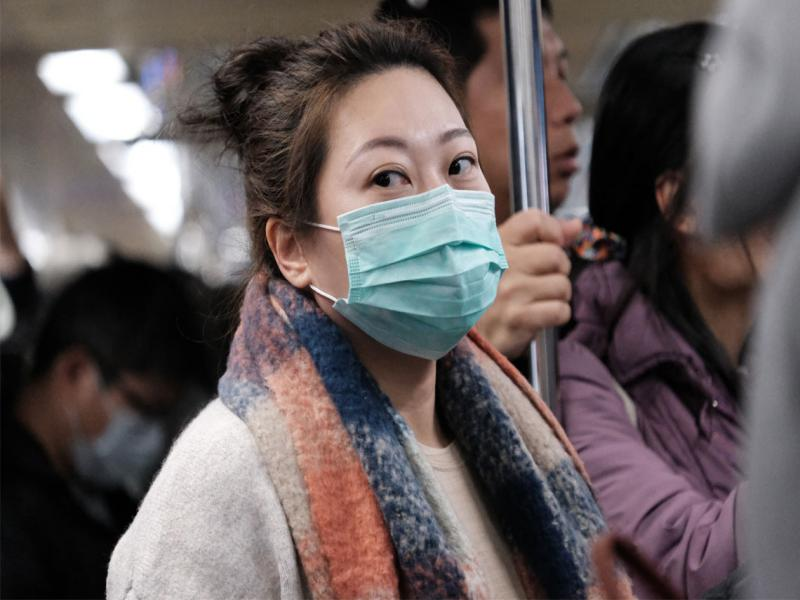bad: (467, 38, 587, 215)
good: (311, 119, 508, 364), (70, 379, 179, 498)
